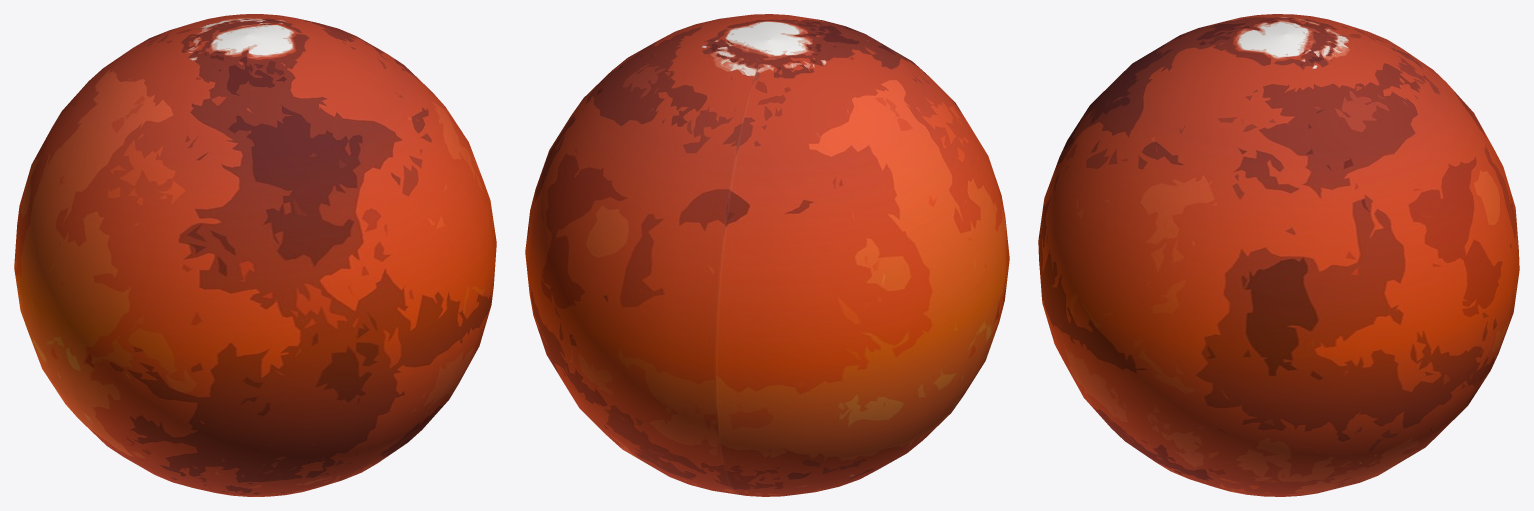
File: mars.glb
3 views of the same model, side by side, from view 1: azimuth 30°, elevation 25°; view 2: azimuth 150°, elevation 25°; view 3: azimuth 270°, elevation 25° (orthographic).
Parts seen in each view (by area): view 1: Mars; view 2: Mars; view 3: Mars.
Boxes of the visible parts, x1,y1,x2,y2 form: Mars: (14, 14, 496, 496); Mars: (525, 14, 1009, 496); Mars: (1038, 14, 1519, 496).
Size of the model in its own units: 0.6685 by 0.6706 by 0.6685.
Materials: 1 (1 with a texture image).
